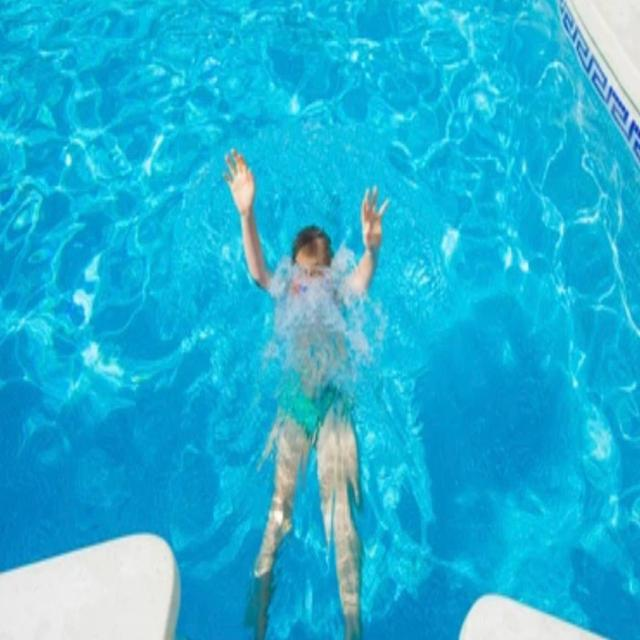Drowning: (215, 138, 382, 640)
